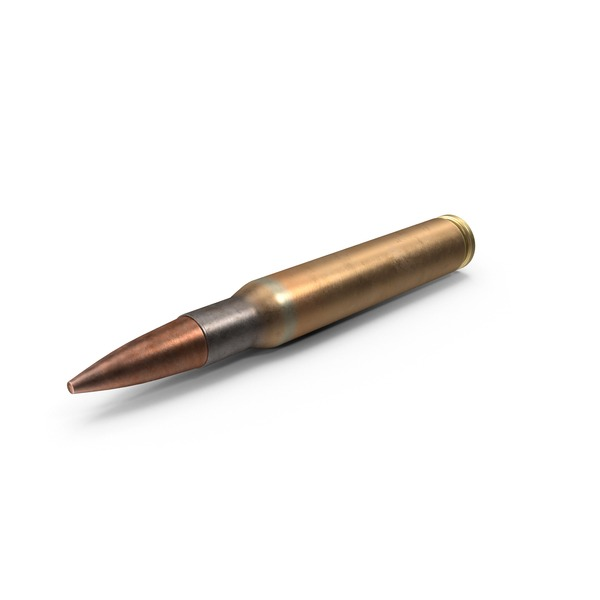bullet: (56, 210, 477, 399)
